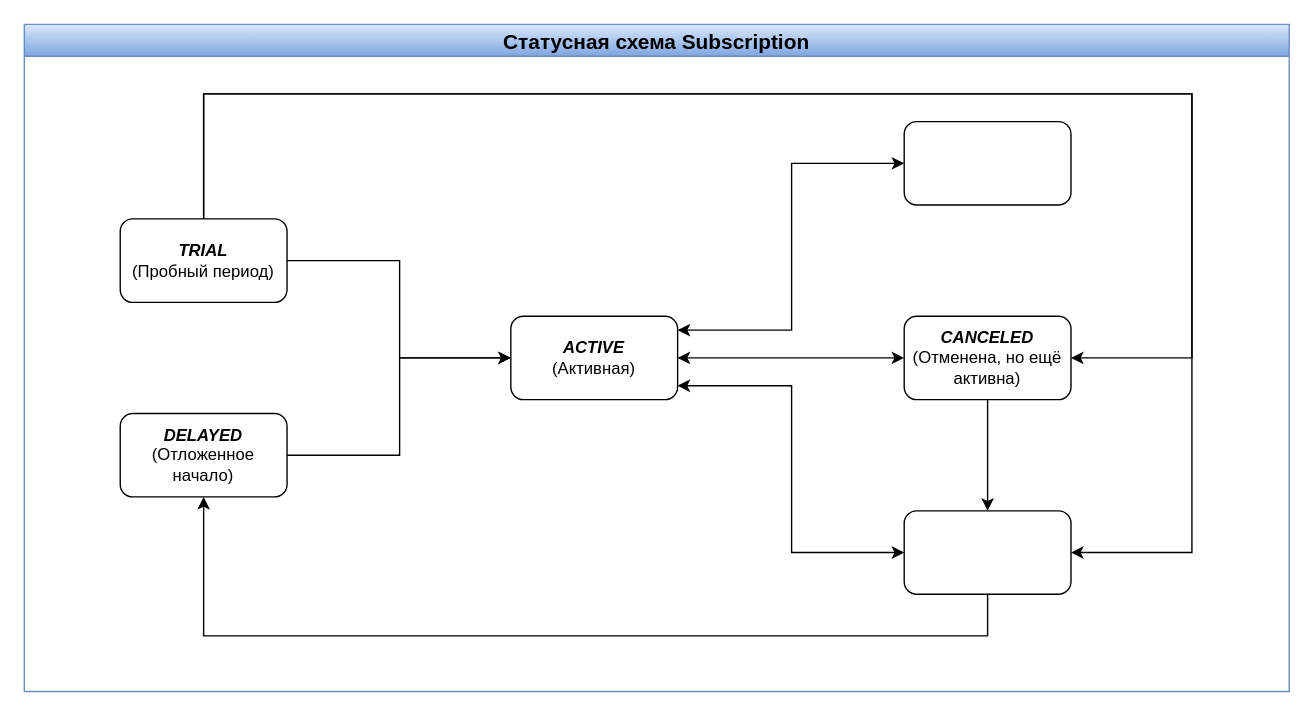
This 1314x716 diagram has some shape labels left out. Each missing label, with the centre of its shape:
EXPIRED (Завершена): (x=987, y=551)
PAUSED (Приостановленна): (x=987, y=162)
